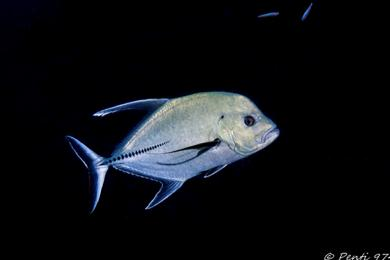Carangidae -Jacks-: (45, 85, 285, 225)
